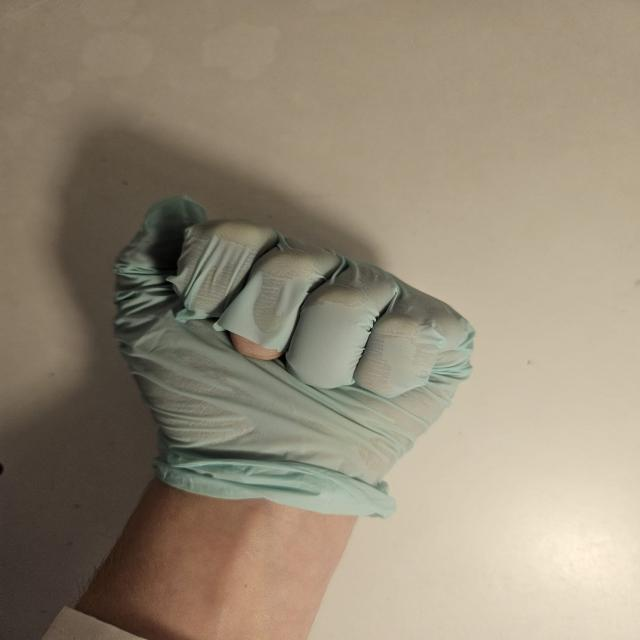gloves_damaged: (110, 190, 482, 520)
